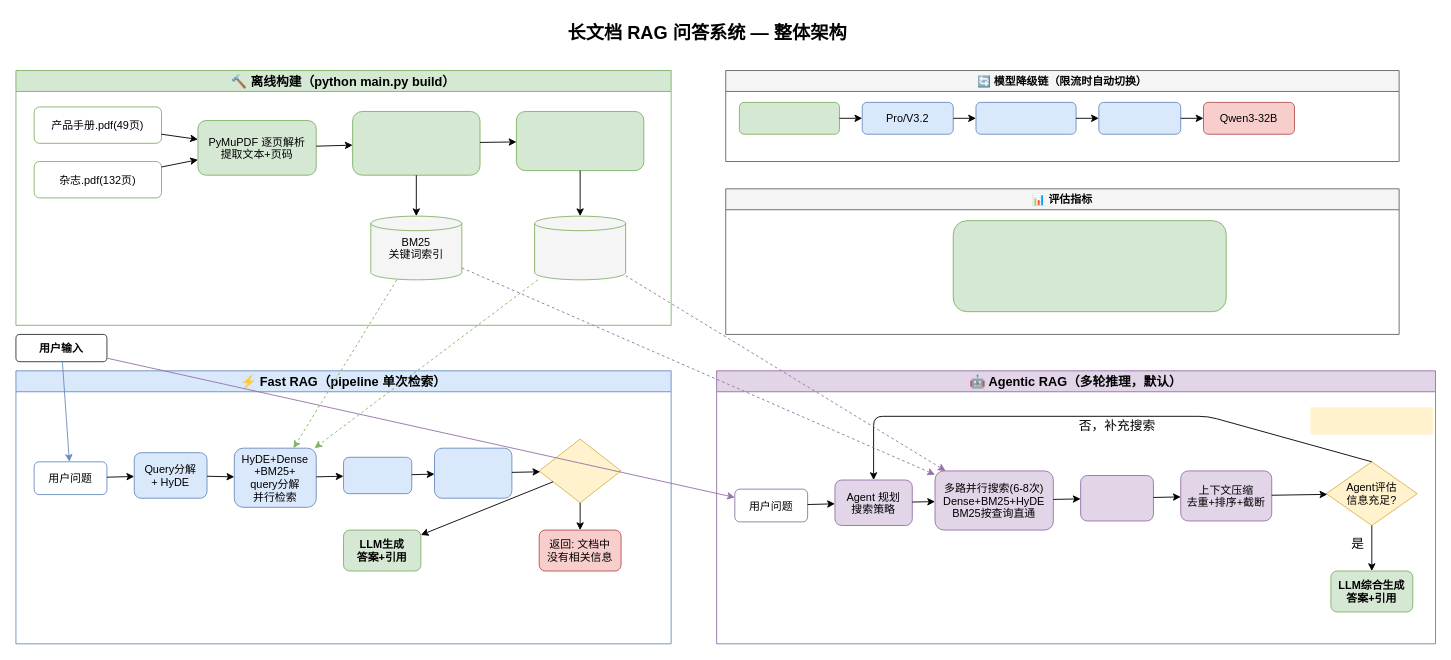
Image size: 1451x660. Some labels were removed from this diagram. Each missing label, with the box of its shape:
BGE-M3 Embedding API调用 1024维 硅基流动免费: (516, 111, 644, 171)
BGE-Reranker 精排: (434, 447, 512, 498)
ChromaDB 向量库: (534, 215, 626, 280)
DeepSeek-V3.2: (738, 101, 839, 134)
GLM-5: (1098, 101, 1181, 134)
Qwen3.5-397B: (975, 101, 1076, 134)
RRF融合: (343, 456, 412, 494)
关键结论: Agentic RAG 页码召回 q_02全页面命中(5/5) q_04正确产品推荐 q_05零幻觉 100%正确拒绝: (952, 220, 1226, 312)
分数≥阈值?: (538, 438, 621, 503)
循环(多轮搜索+1轮强制生成): (1310, 407, 1433, 434)
自动读取 Top页面: (1080, 475, 1153, 521)
递归字符分块 短chunk附加 【本页主题】前缀: (352, 111, 480, 175)
